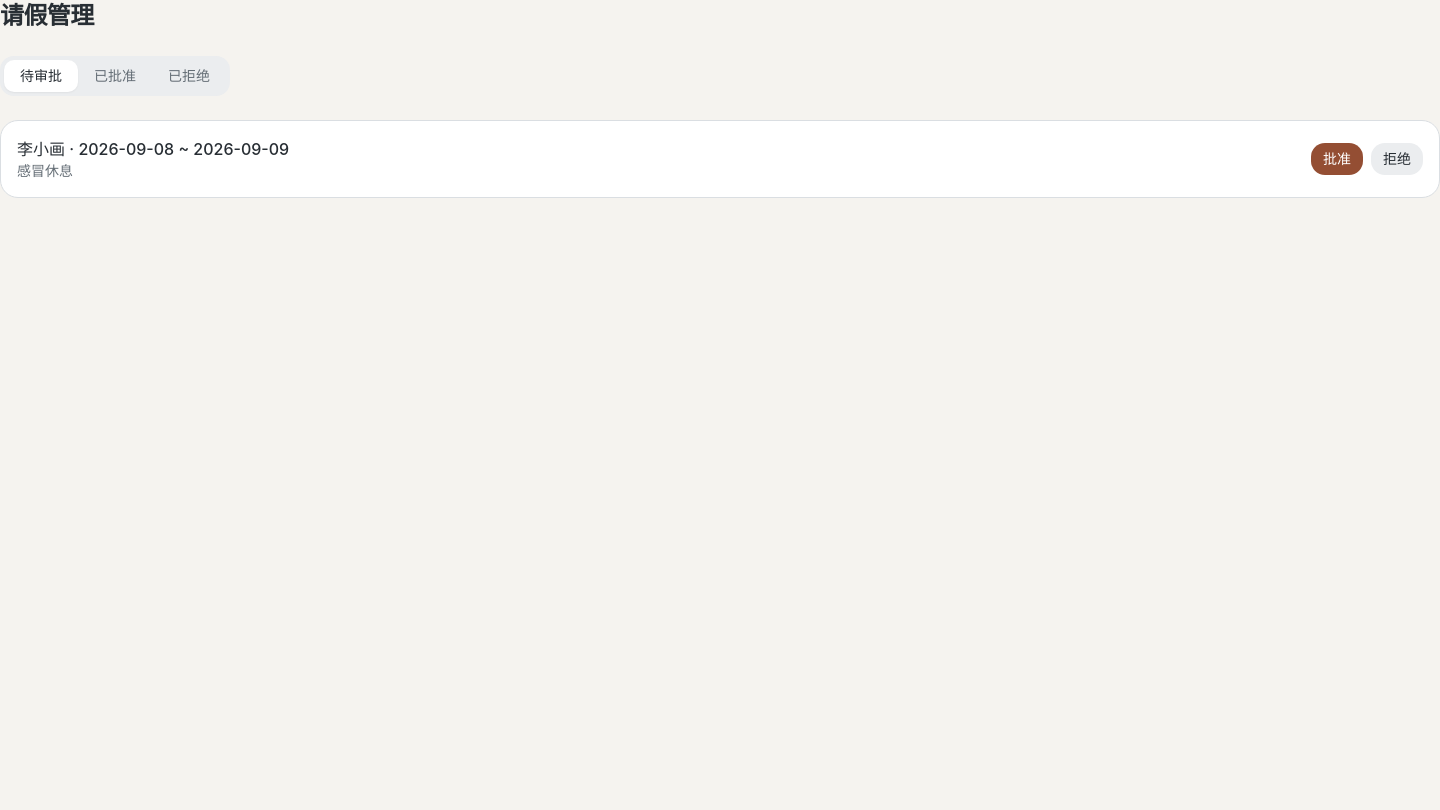
Test: LeaveListPage › keeps approval actions outside the detail button and preserves their confirmation behavior
This screenshot has width=1440, height=810.
Click the button "批准".
click(1337, 159)  # box [1311,143,1363,175]
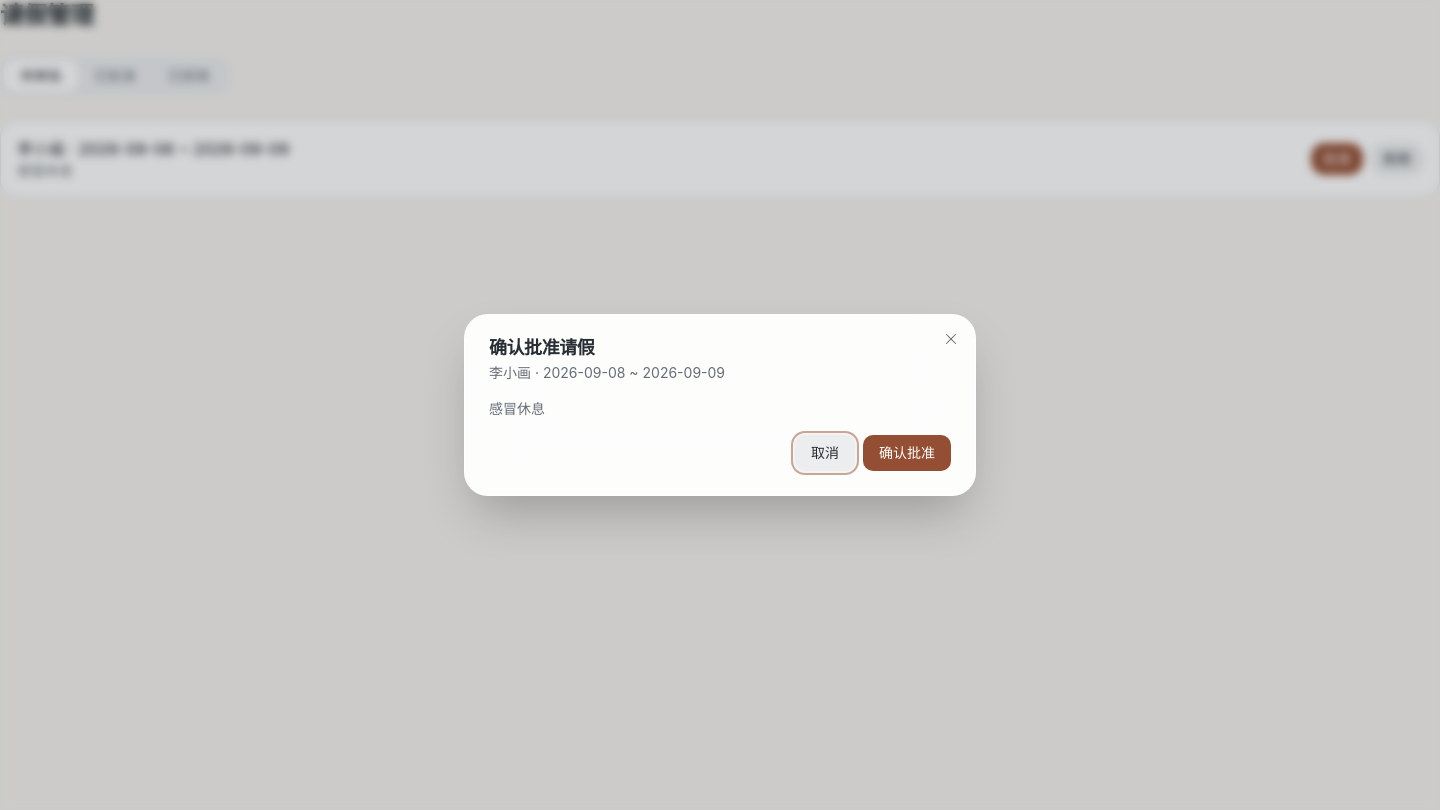
Check: the dialog "确认批准请假" shows "李小画", box [489,364,725,381]
Check: the dialog "确认批准请假" shows "2026-09-08", box [489,364,725,381]
Click the button "取消".
click(825, 453)  # box [795,435,855,471]
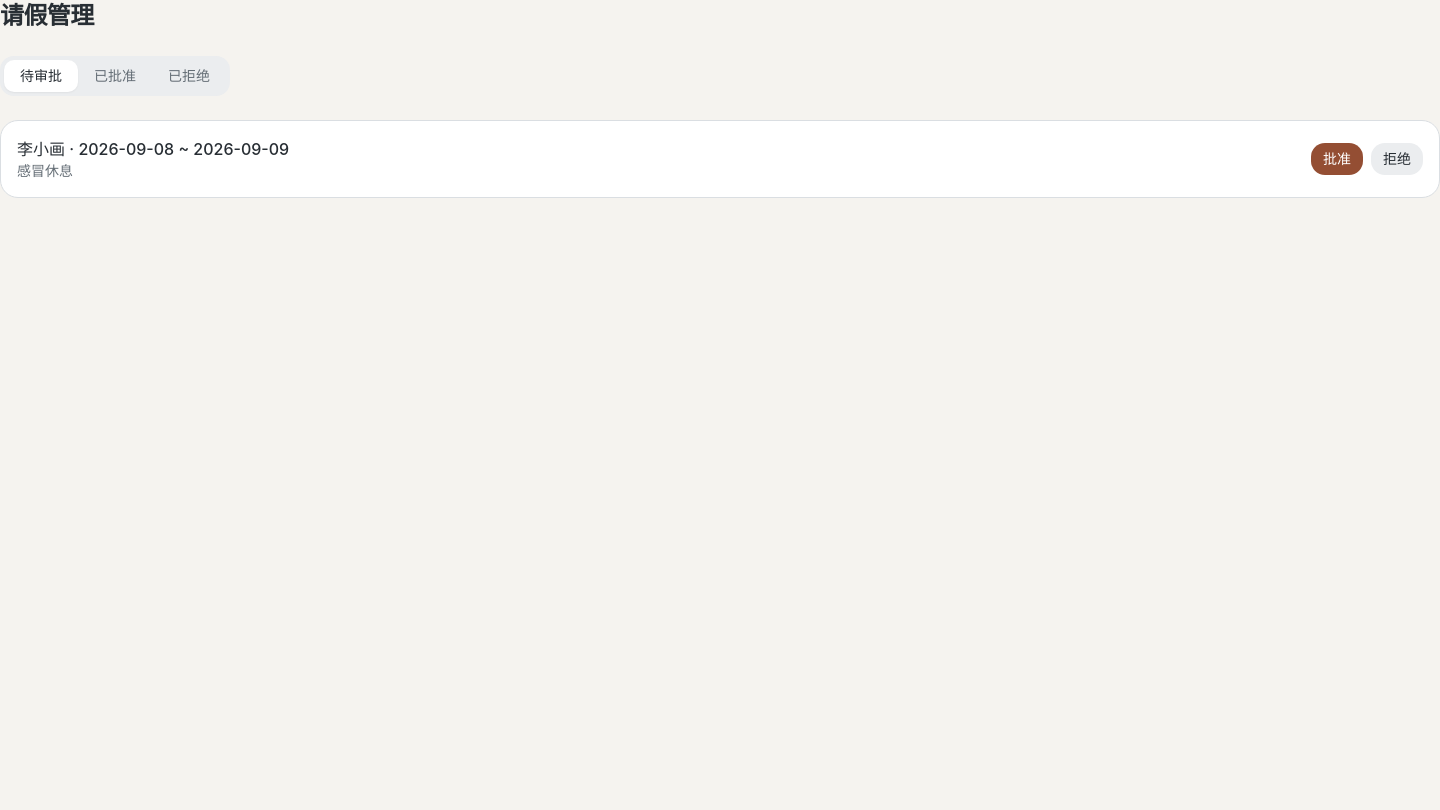
Check: the dialog is gone
